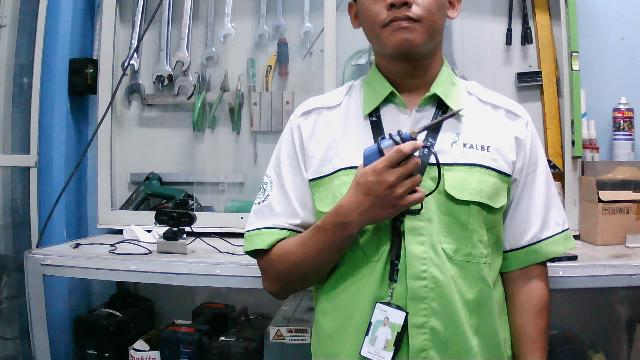solder_electrical: (350, 105, 467, 216)
